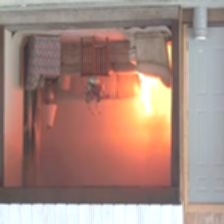fire: (135, 84, 161, 127)
